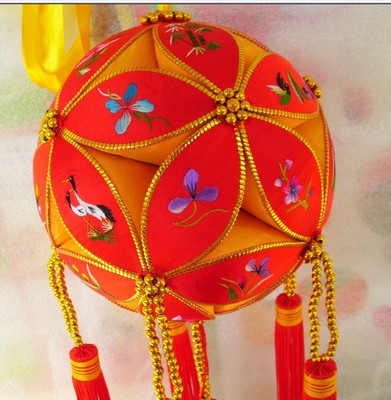xiuqiu: (31, 20, 334, 321)
